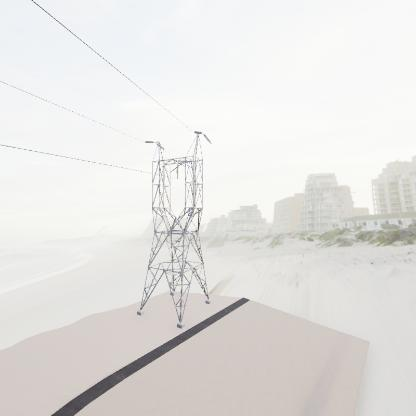tower: (133, 126, 214, 331)
